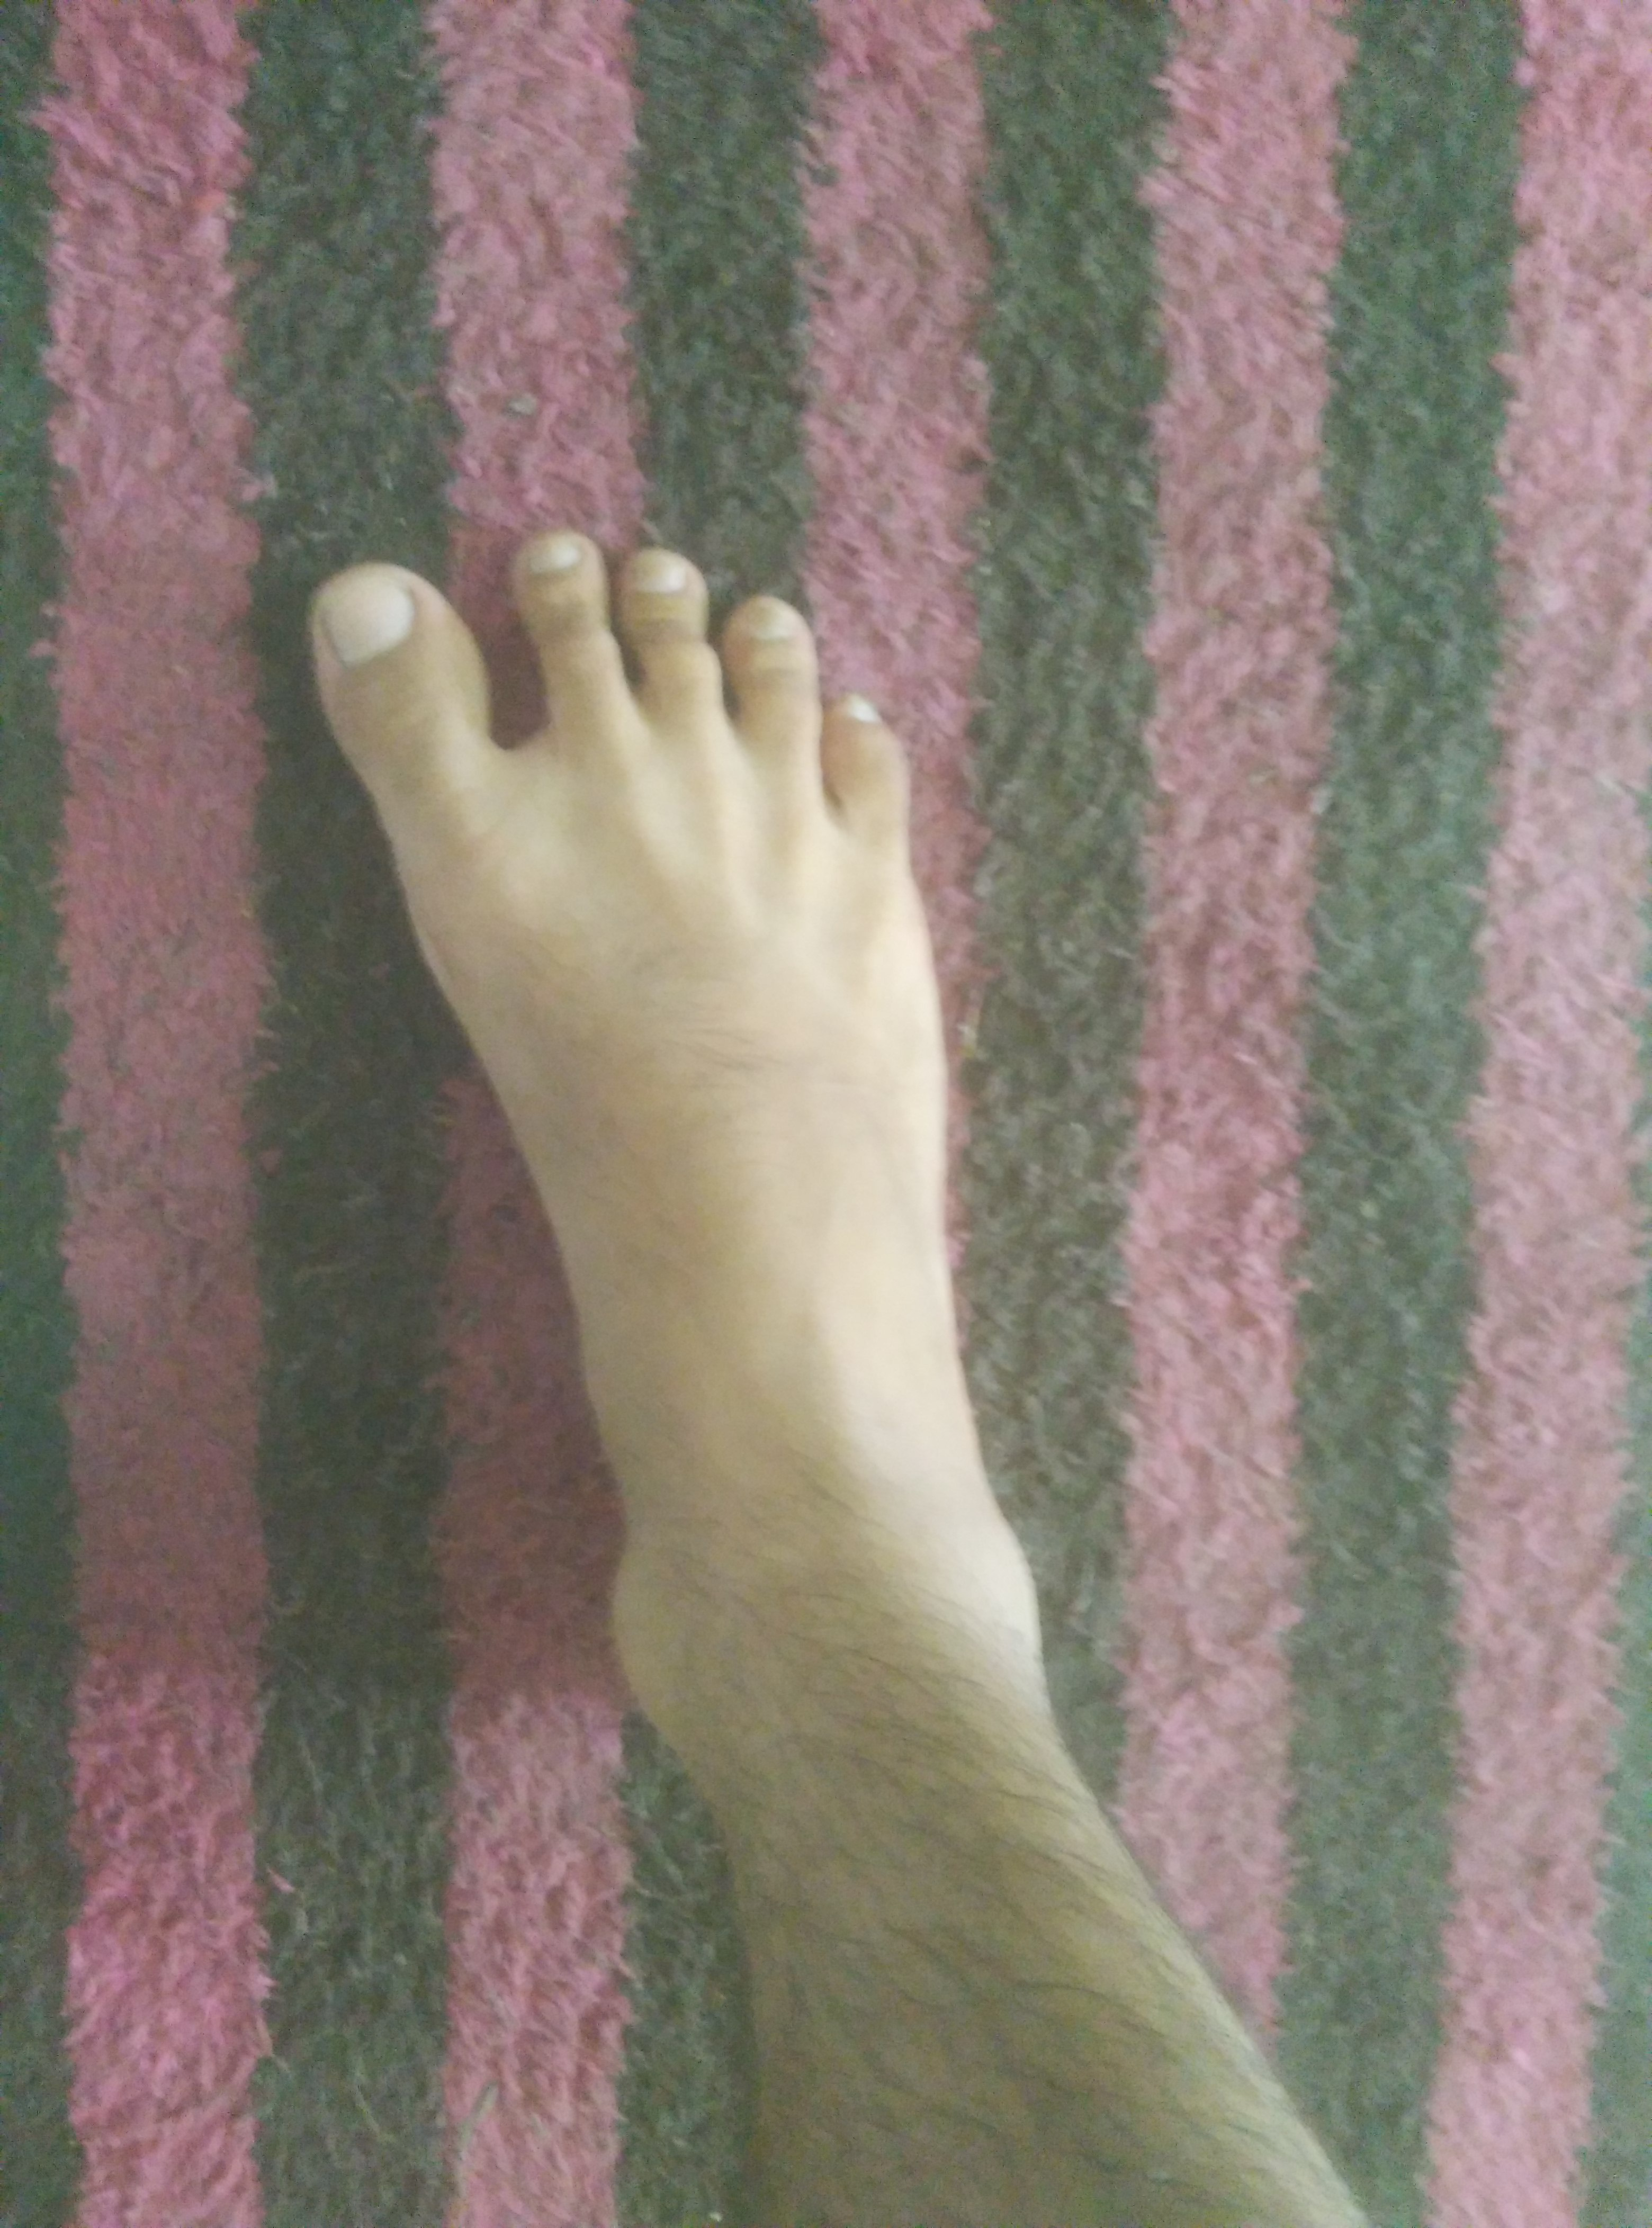feet: (151, 448, 1091, 1876)
